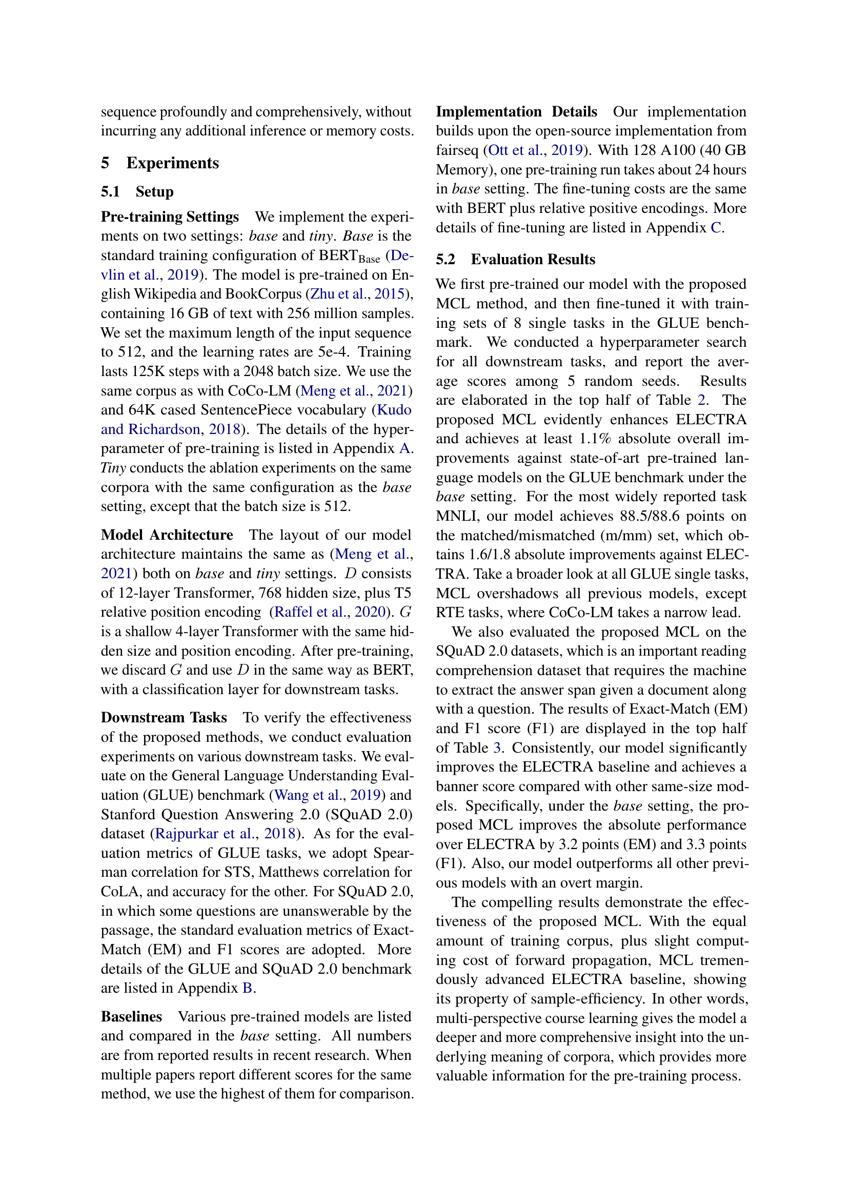text: (430, 99, 753, 622), (430, 622, 753, 1088), (95, 100, 418, 518), (95, 707, 418, 1107), (95, 524, 418, 700)
